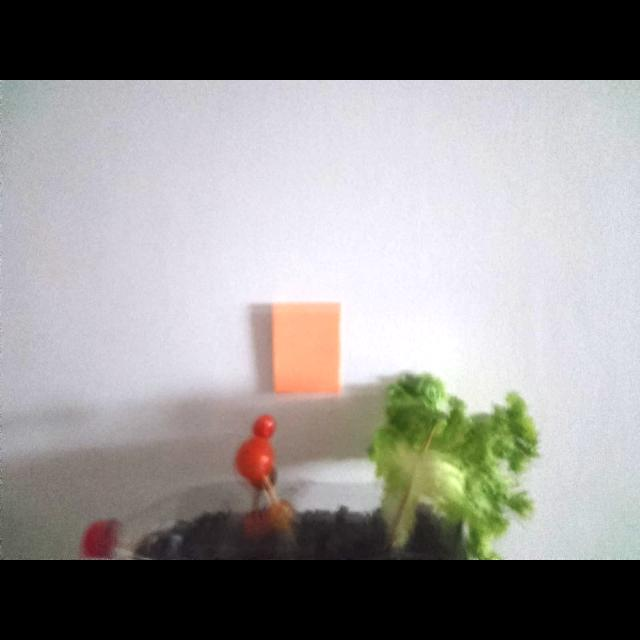card: (271, 303, 342, 393)
fruit_maturation: (267, 500, 294, 533)
fully_grown: (235, 437, 274, 487), (253, 415, 275, 439)
